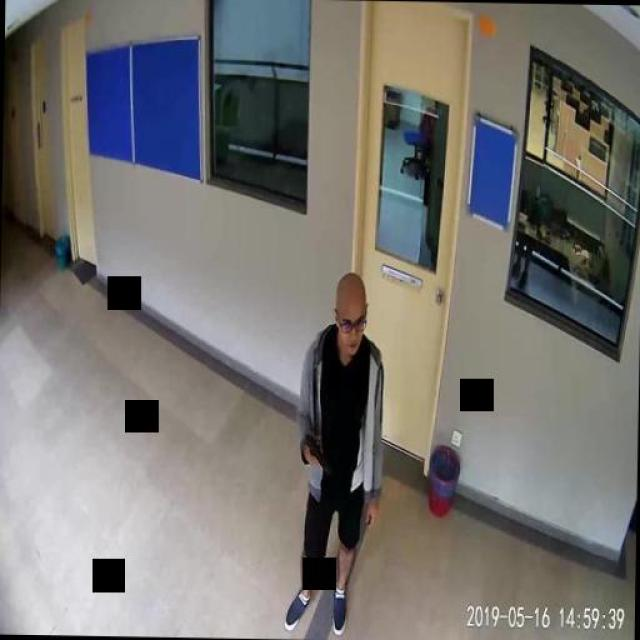gun: (302, 432, 332, 473)
